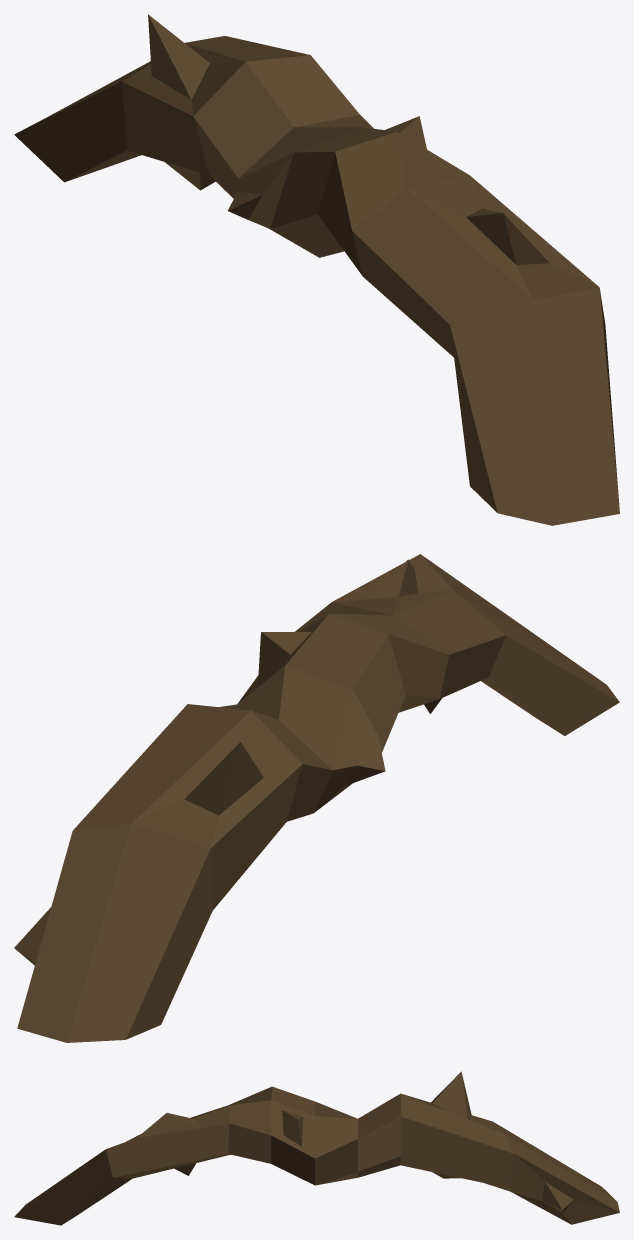
The picture shows the model from 3 angles, top to bottom: view 1: azimuth 30°, elevation 25°; view 2: azimuth 150°, elevation 25°; view 3: azimuth 270°, elevation 25°; orthographic projection. The views are drawn at different scales.
Parts seen in each view (by area): view 1: Cube; view 2: Cube; view 3: Cube.
Part boxes in pixels (box(x1,y1,x2,y2)): Cube: box(14, 14, 619, 525); Cube: box(14, 554, 619, 1042); Cube: box(14, 1071, 619, 1225).
Bounding box in the file's own units: 0.4551 × 0.5687 × 2.36.
